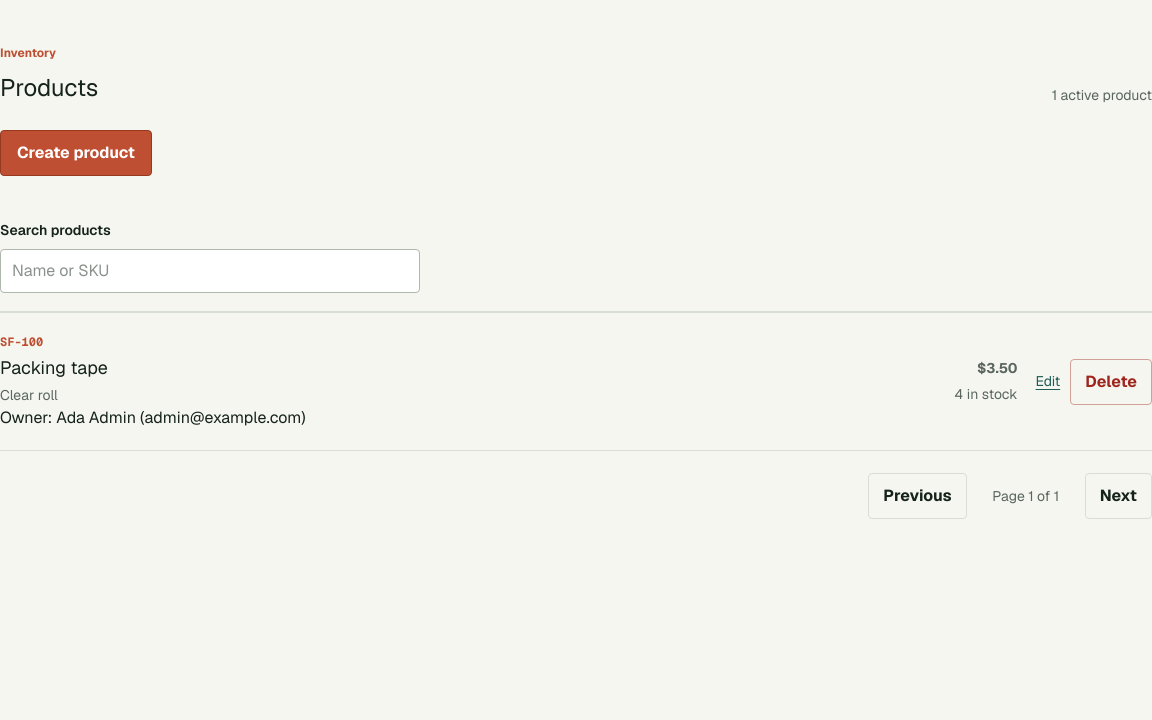
Test: ProductsScreen › rejects missing numeric fields with field-level errors
Expected: the heading "Packing tape" is shown, [0, 356, 108, 379]
Click the button "Create product" at (76, 153), box [0, 130, 152, 176]
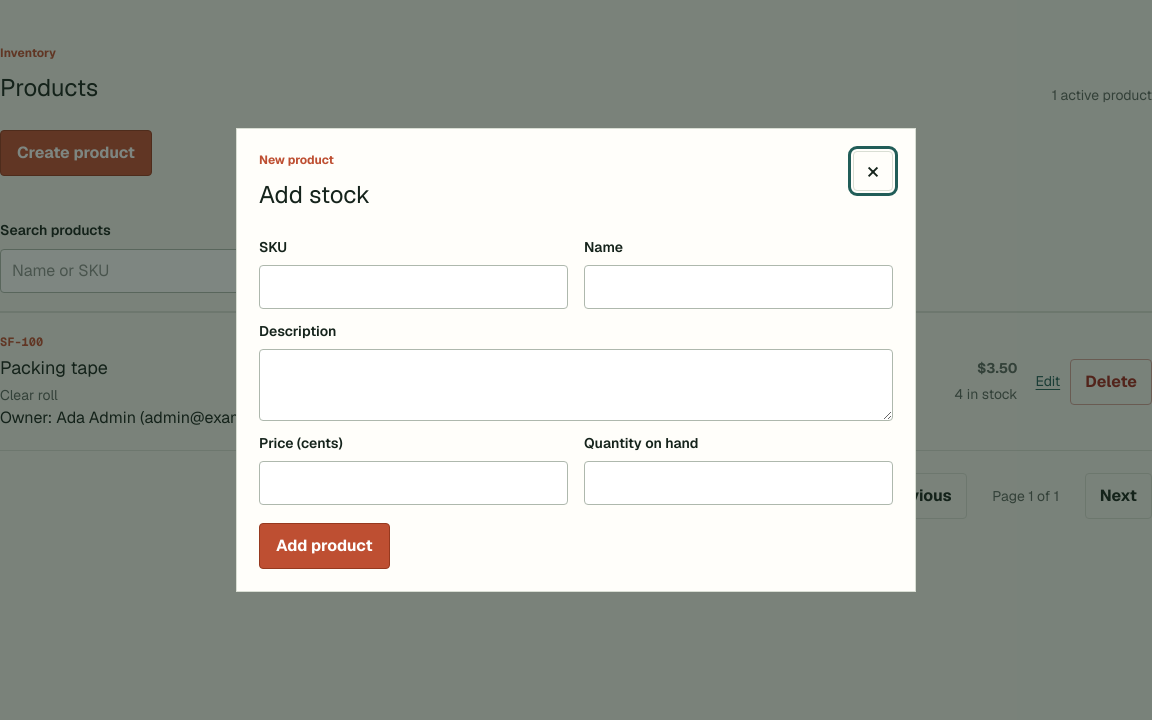
Type "SF-200" into the field labelled "SKU" at (414, 287), box [259, 265, 568, 309]
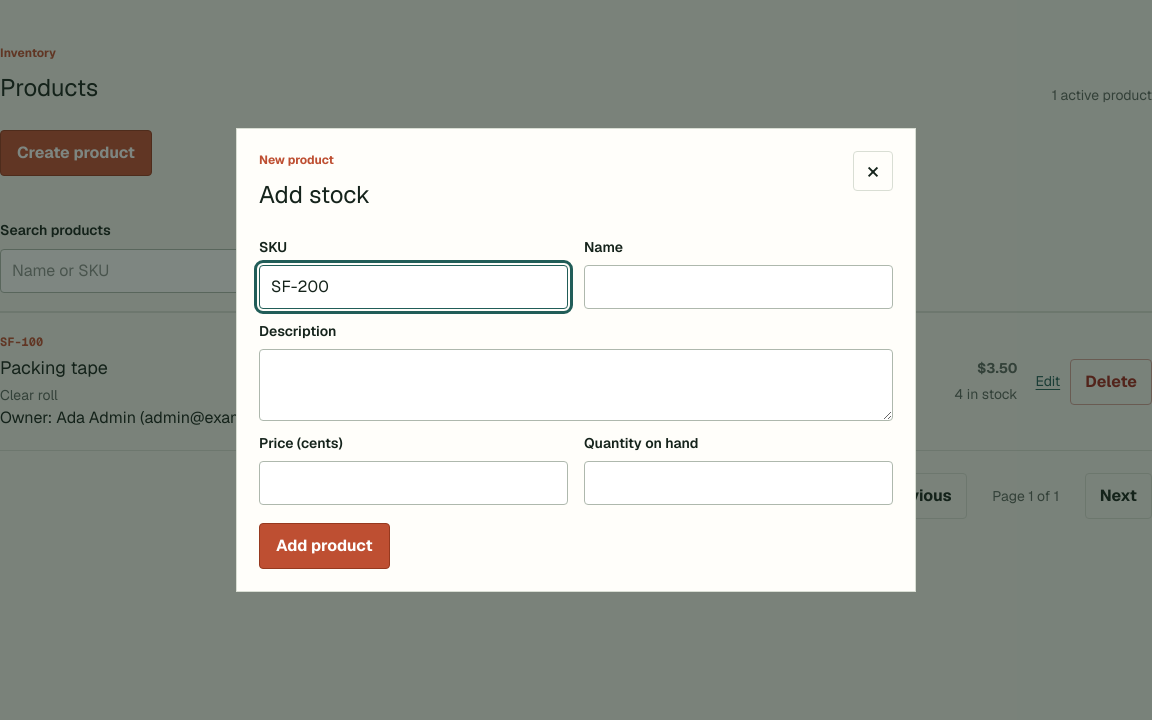
Type "Shipping box" into the field labelled "Name" at (738, 287), box [584, 265, 893, 309]
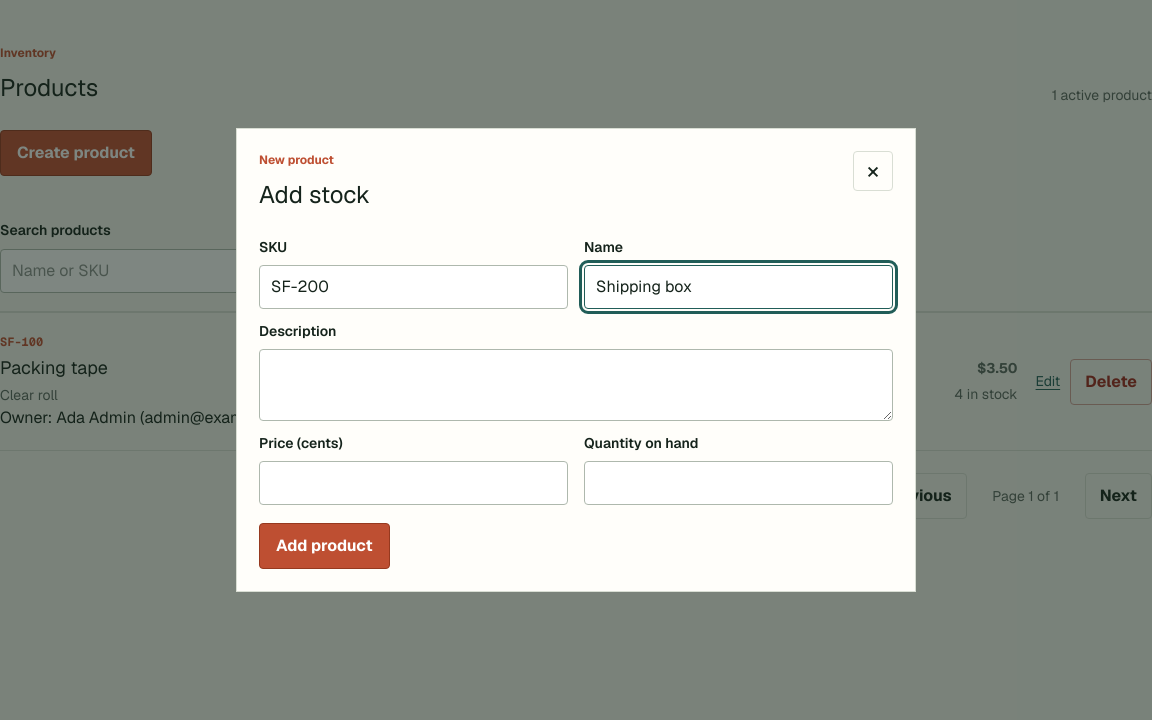
Click the button "Add product" at (324, 546), box [259, 523, 390, 569]
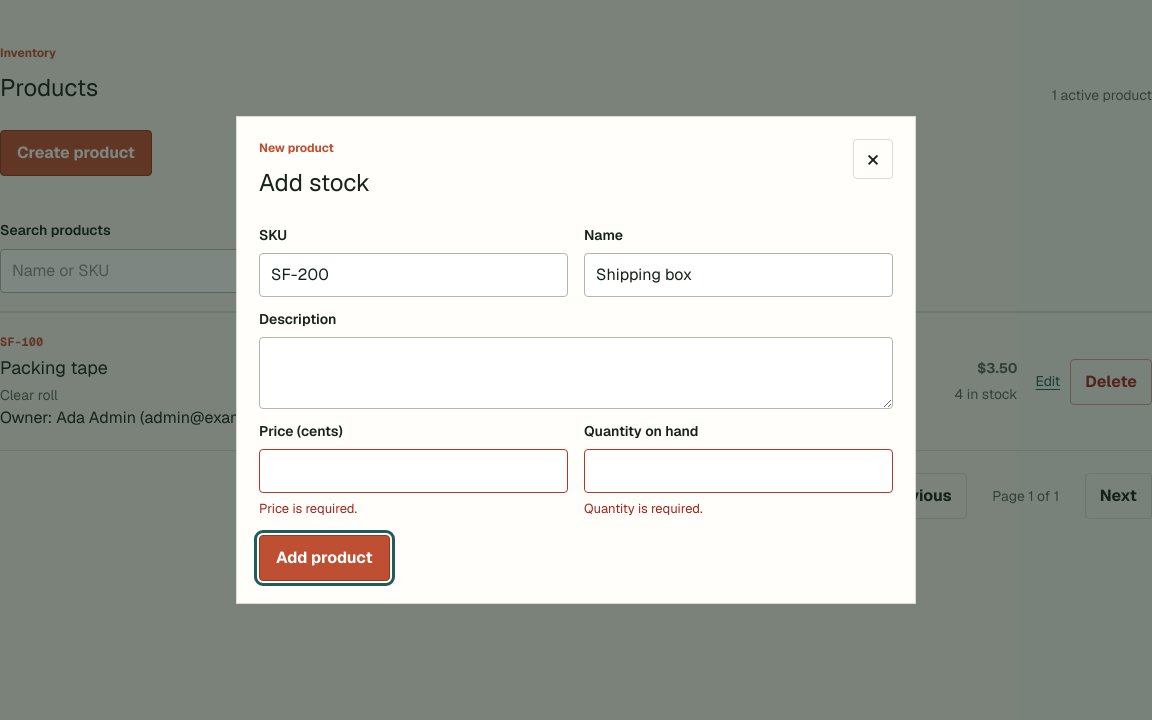
Result: the text "Price is required." is shown at [259, 500, 357, 517]
Result: the text "Quantity is required." is shown at [584, 500, 703, 517]
